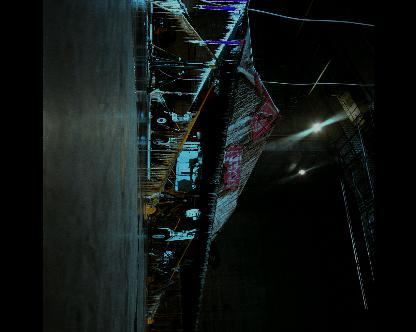E7: (148, 0, 281, 329)
